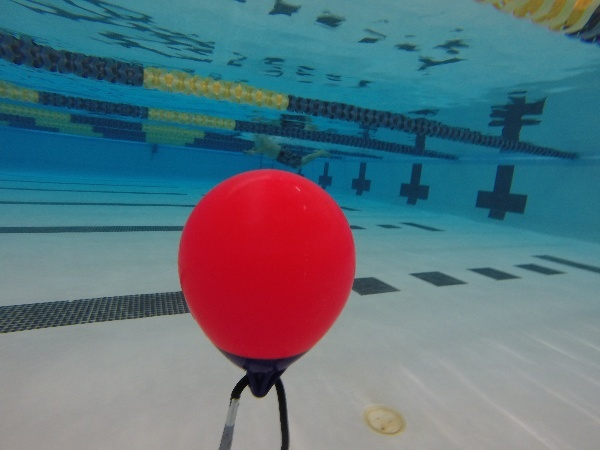buoy_red: (163, 164, 361, 404)
